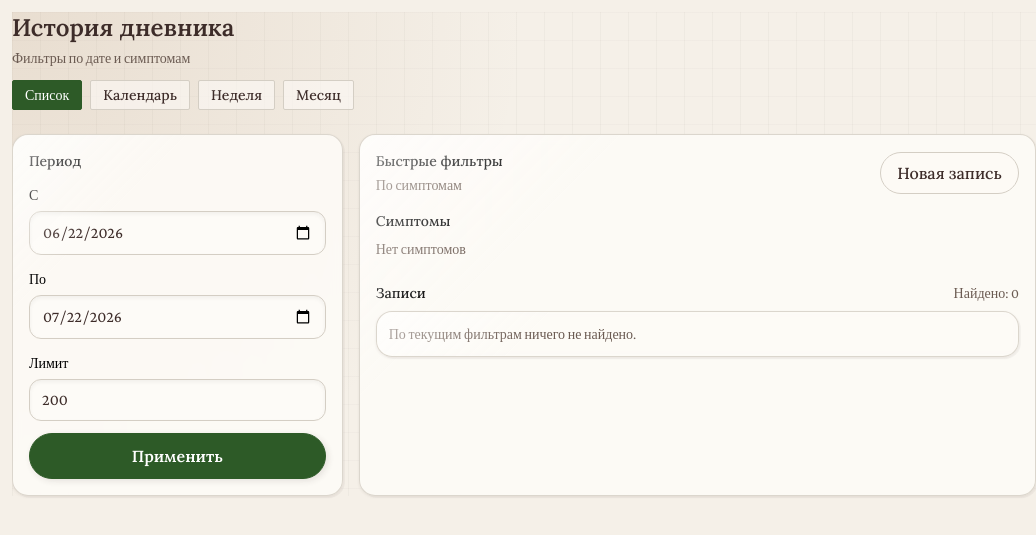
DiaryHistoryPage › should render monthly overview and top tags when switching to Monthly view
Click the button "Месяц". click: coordinates (318, 95)
box: x1=283 y1=80 x2=354 y2=110
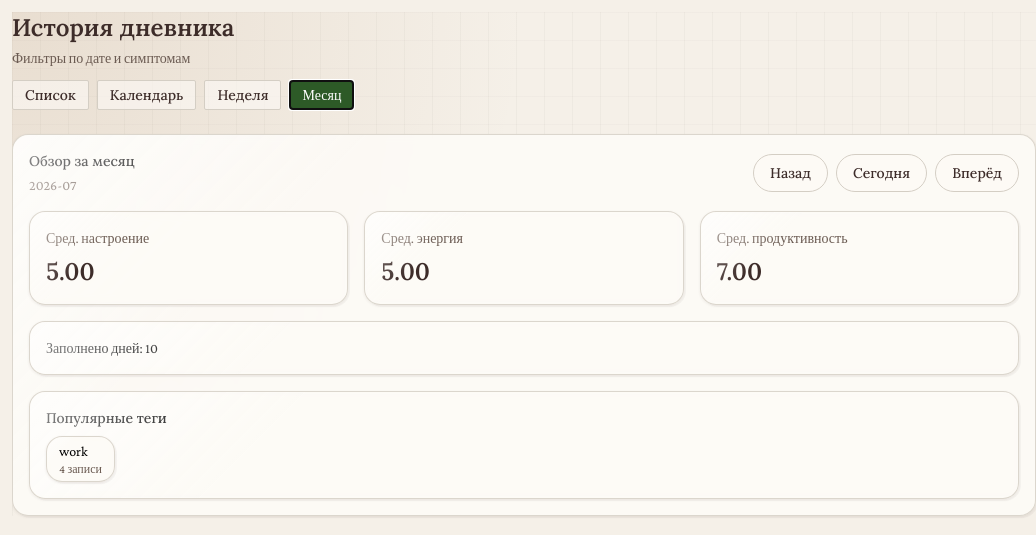
Expected: the text "Обзор за месяц" is shown, x1=29 y1=151 x2=135 y2=171
Expected: the text "work" is shown, x1=59 y1=443 x2=88 y2=459
